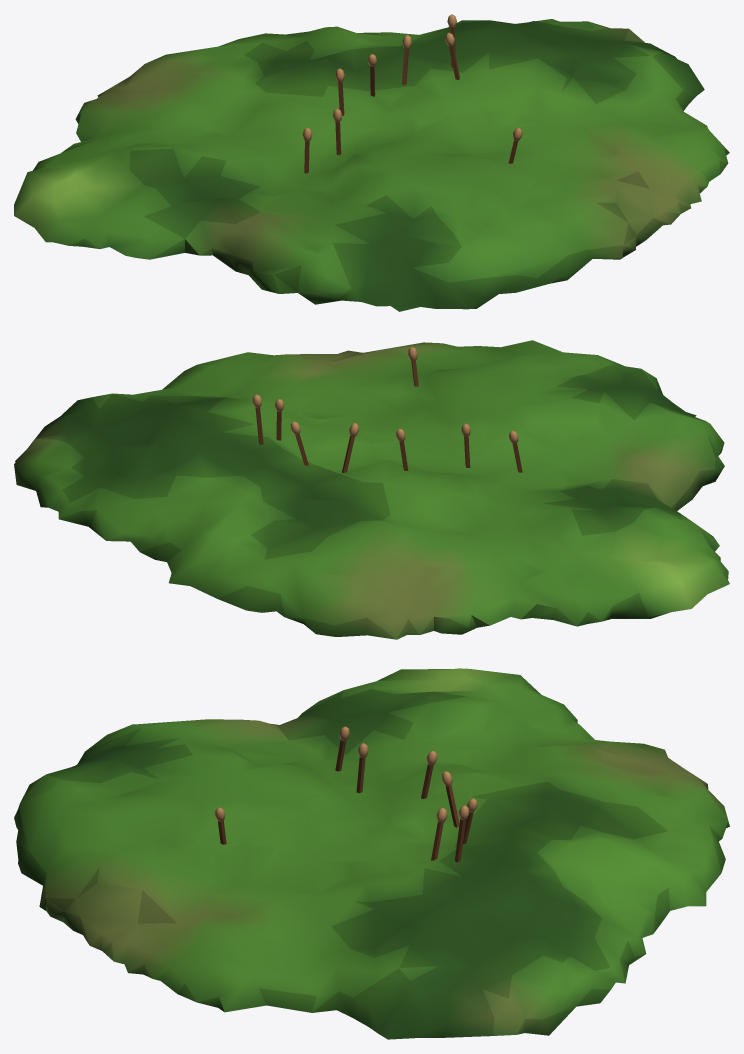
Rendered from canopy_gc_moss_a.glb.
The picture shows the model from 3 angles, top to bottom: view 1: azimuth 30°, elevation 25°; view 2: azimuth 150°, elevation 25°; view 3: azimuth 270°, elevation 25°; orthographic projection. The views are drawn at different scales.
Parts seen in each view (by area): view 1: canopy_gc_moss_a; view 2: canopy_gc_moss_a; view 3: canopy_gc_moss_a.
Boxes of the visible parts, bbox=[...] form: canopy_gc_moss_a: bbox=[14, 14, 729, 311]; canopy_gc_moss_a: bbox=[14, 340, 729, 639]; canopy_gc_moss_a: bbox=[14, 668, 729, 1039].
Bounding box in the file's own units: 6.24 × 1.01 × 5.29.
